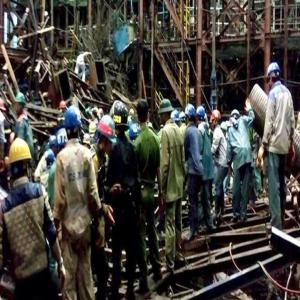blue: (98, 117, 117, 154), (65, 106, 82, 139), (267, 61, 282, 89), (159, 98, 173, 124), (56, 130, 69, 151), (15, 91, 26, 113), (186, 105, 197, 124), (197, 105, 207, 125), (47, 150, 57, 168), (231, 108, 241, 123), (49, 136, 58, 151), (173, 110, 181, 126)
none: (136, 99, 149, 127)
red: (211, 109, 222, 128)
yellow: (10, 138, 31, 179)
